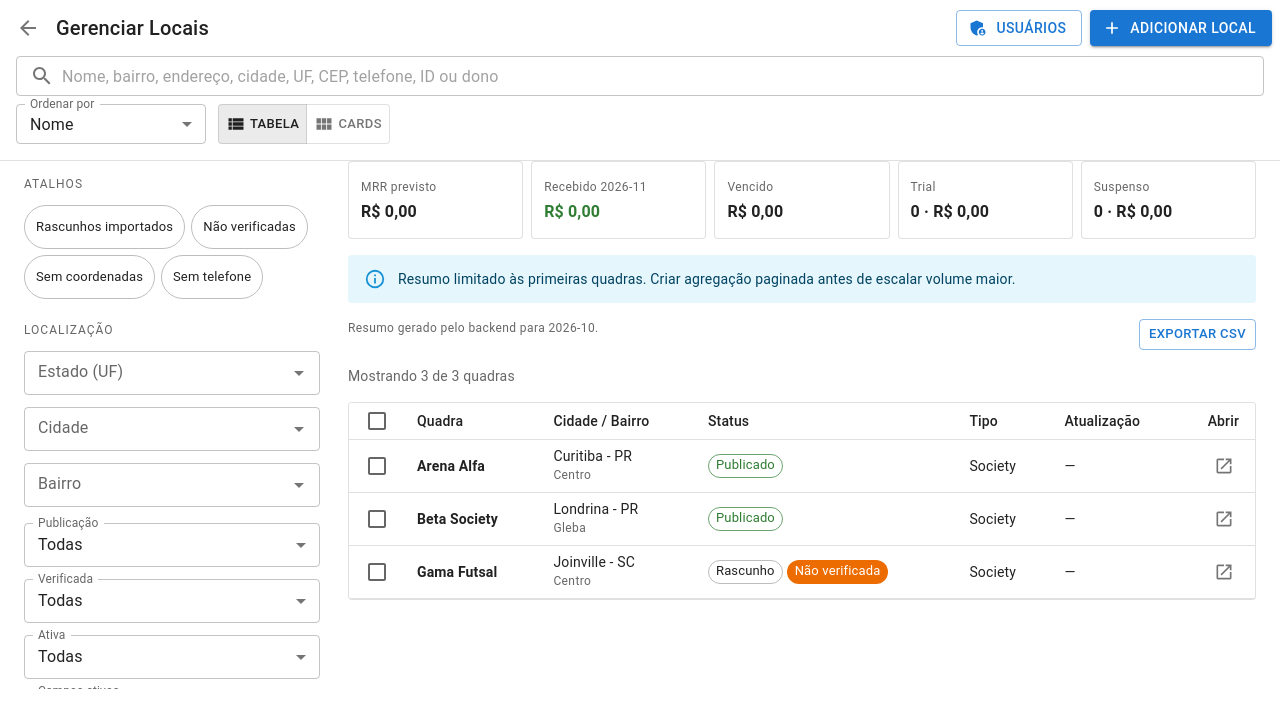
Test: ManageLocationsScreen (admin) — filtros, busca e vistas › atalho "Rascunhos importados" filtra e "Limpar tudo" restaura
Click the button "Rascunhos importados" at (105, 227), box [24,205,185,249]
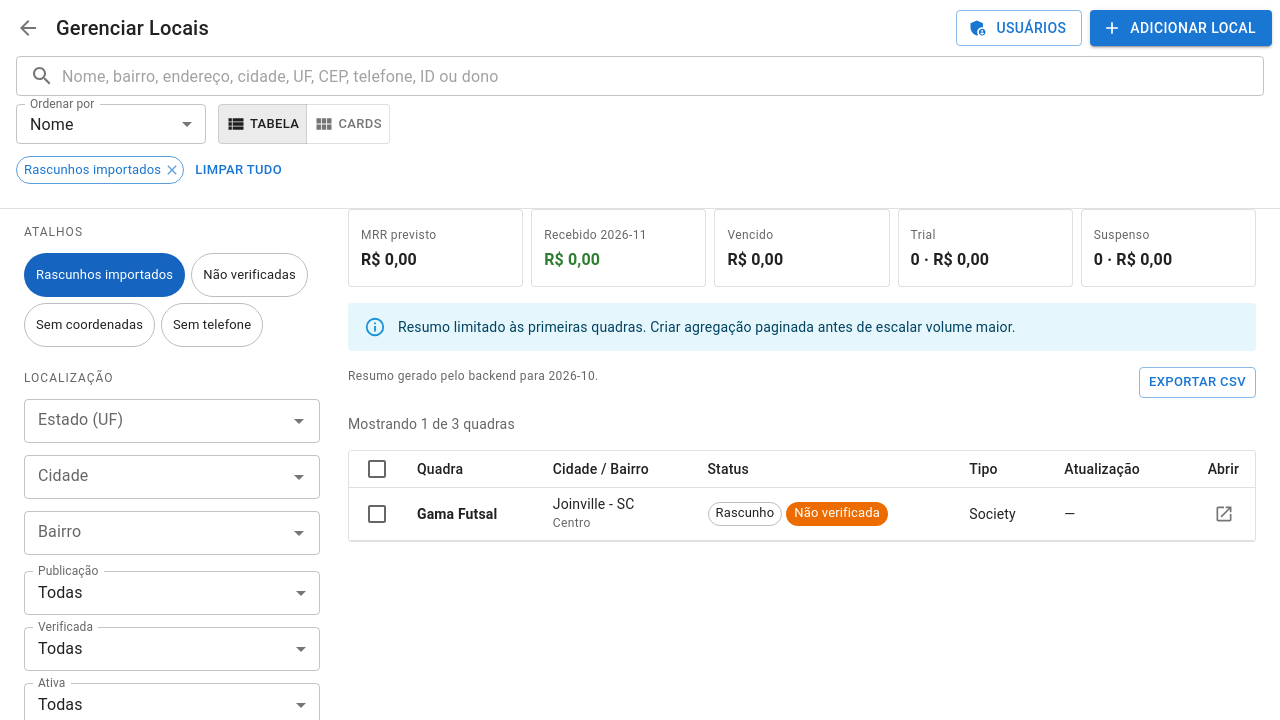
Expected: the text "Mostrando 1 de 3 quadras" is shown, [348,416,515,432]
Click the button "Limpar tudo" at (239, 170), box [190,152,287,188]
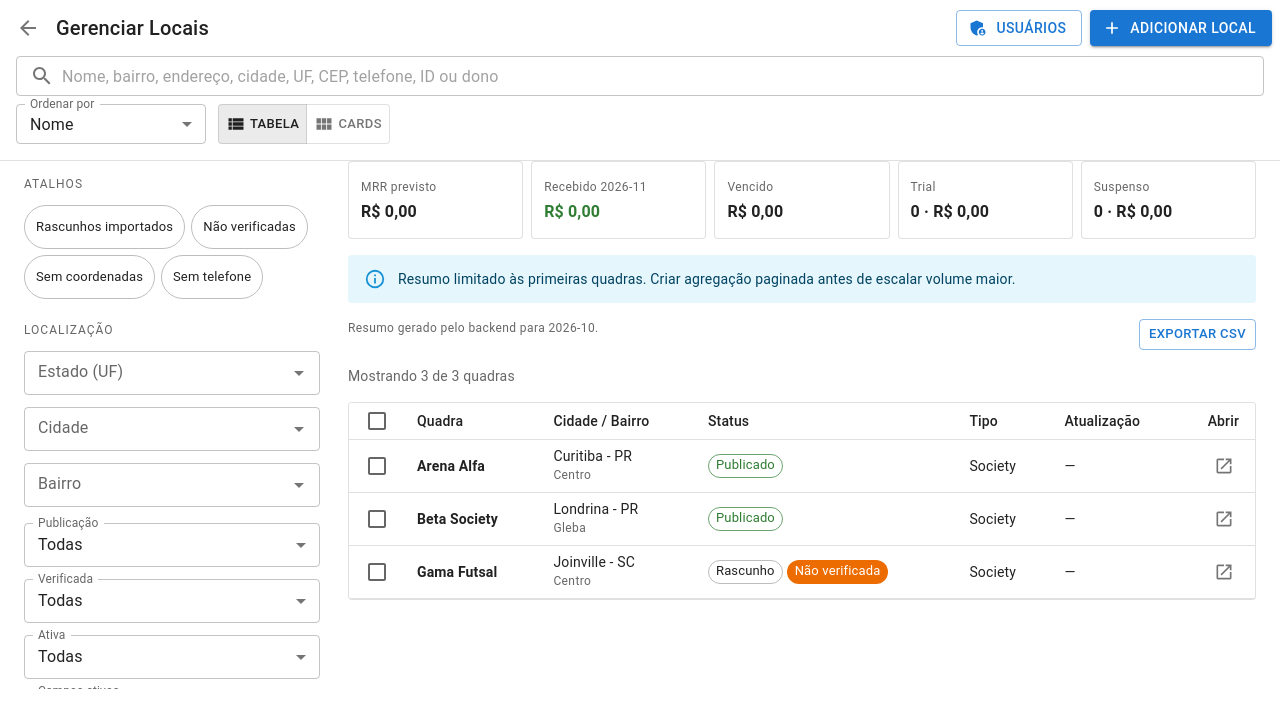
Expected: the text "Mostrando 3 de 3 quadras" is shown, [348,368,515,384]
